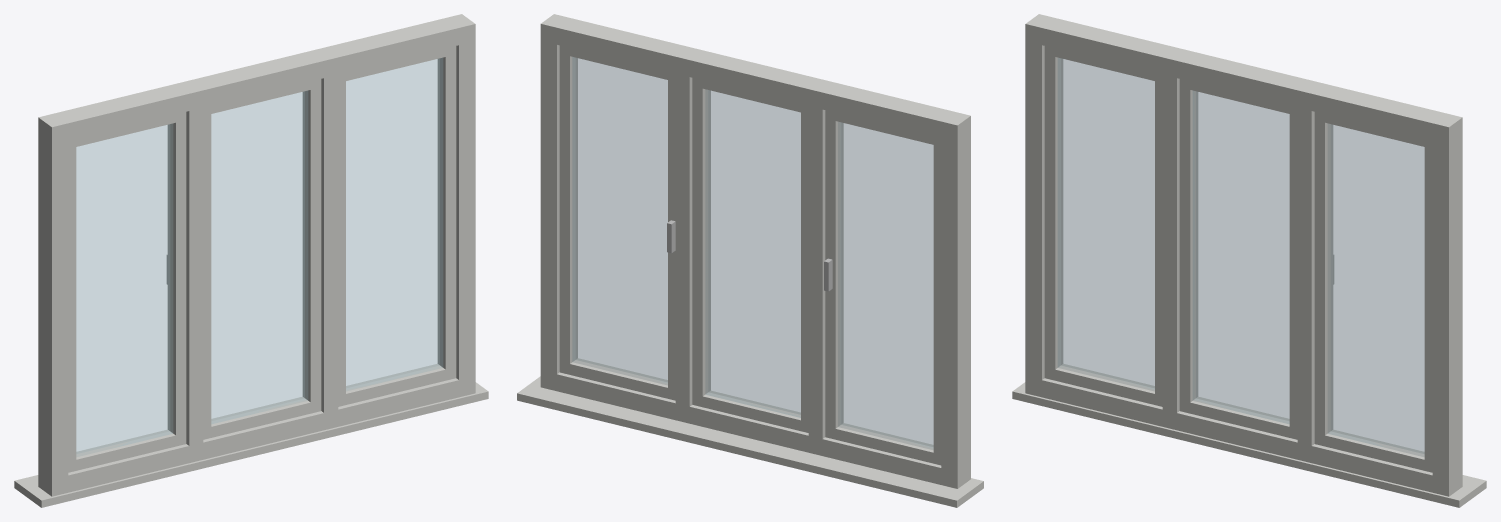
File: opening.window.large.glb
3 views of the same model, side by side, from view 1: azimuth 30°, elevation 25°; view 2: azimuth 150°, elevation 25°; view 3: azimuth 330°, elevation 25° (orthographic).
Visible parts, largest first — view 1: glazing__glass, frame__paint_white; view 2: frame__paint_white, glazing__glass, ironmongery__steel_stainless; view 3: glazing__glass, frame__paint_white.
Boxes of the visible parts, bbox=[...] form: glazing__glass: bbox=[76, 58, 442, 456]; frame__paint_white: bbox=[14, 14, 488, 507]; frame__paint_white: bbox=[517, 14, 983, 507]; glazing__glass: bbox=[572, 57, 933, 449]; ironmongery__steel_stainless: bbox=[667, 220, 832, 291]; glazing__glass: bbox=[1058, 58, 1424, 456]; frame__paint_white: bbox=[1012, 14, 1486, 507].
Bounding box in the file's own units: 1.9 × 1.53 × 0.2.
